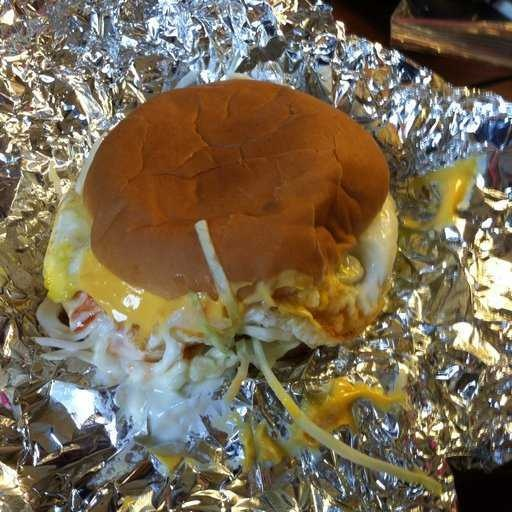hamburger: (6, 88, 431, 377)
